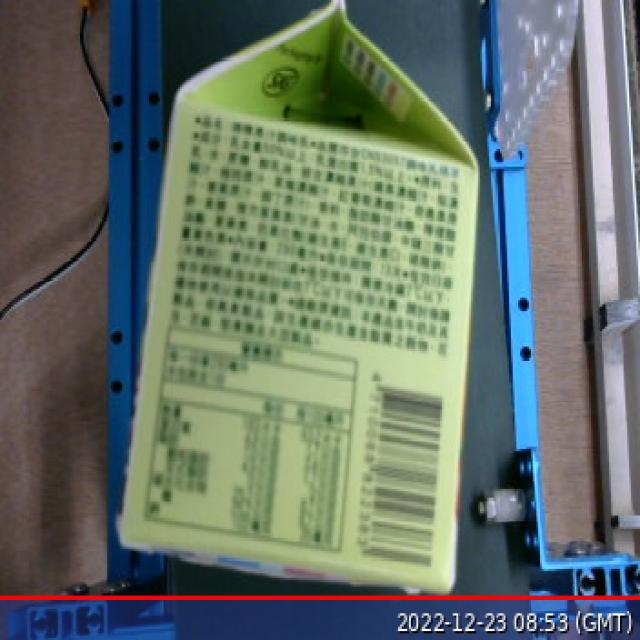non_white_jug: (102, 4, 490, 620)
